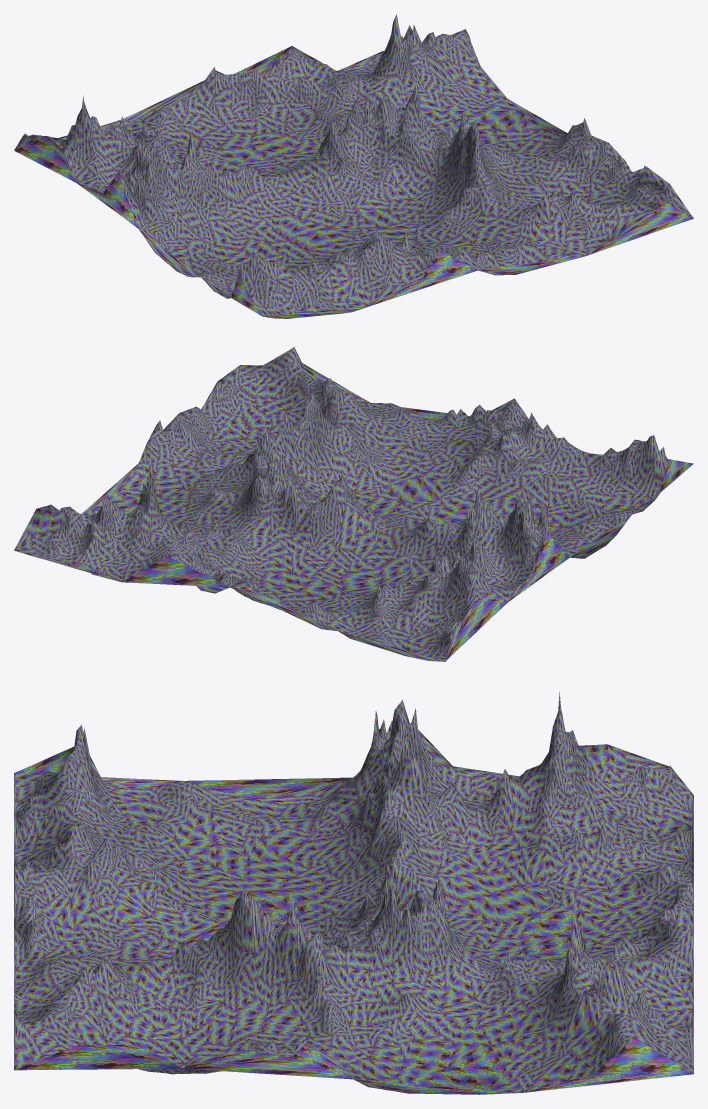
Rendered from mountains_texture.obj.
3 renders of one model, top to bottom at view 1: azimuth 30°, elevation 25°; view 2: azimuth 150°, elevation 25°; view 3: azimuth 270°, elevation 25°, orthographic. The views are drawn at different scales.
Visible parts, largest first — view 1: mountains; view 2: mountains; view 3: mountains.
Boxes of the visible parts, x1=… form: mountains: x1=14, y1=14, x2=693, y2=318; mountains: x1=14, y1=347, x2=693, y2=661; mountains: x1=14, y1=692, x2=693, y2=1094.
Size of the model in its own units: 160 by 34.19 by 160.
